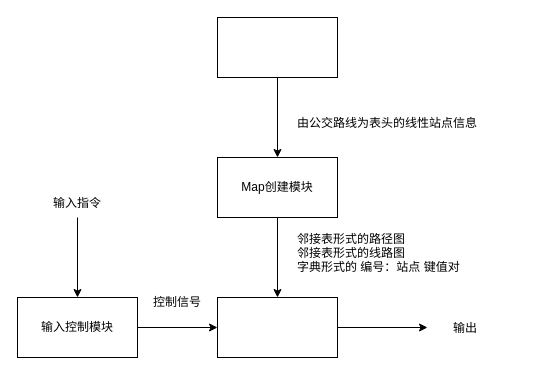
Image size: 545x375. Some labels were removed from this diagram. Here are the shapes that lost their labels. From the top down, the box of each, then its label:
(216, 16, 338, 78): Excel读入模块
(216, 296, 338, 358): 总控制模块
